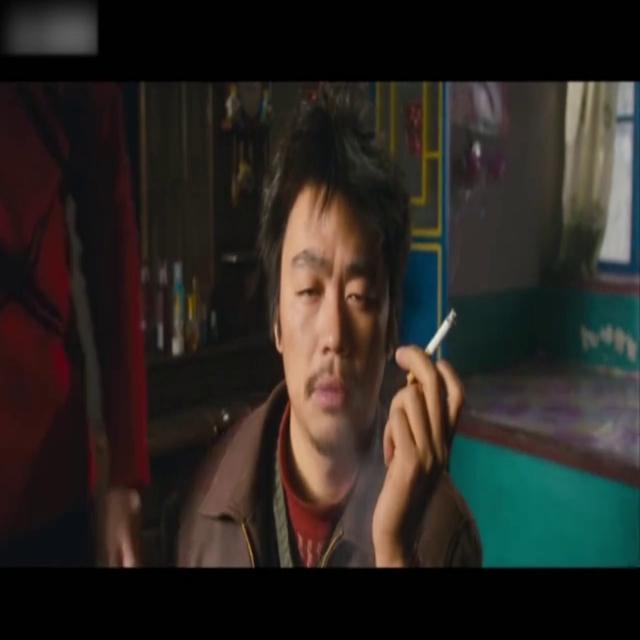smoking: (404, 305, 458, 384)
